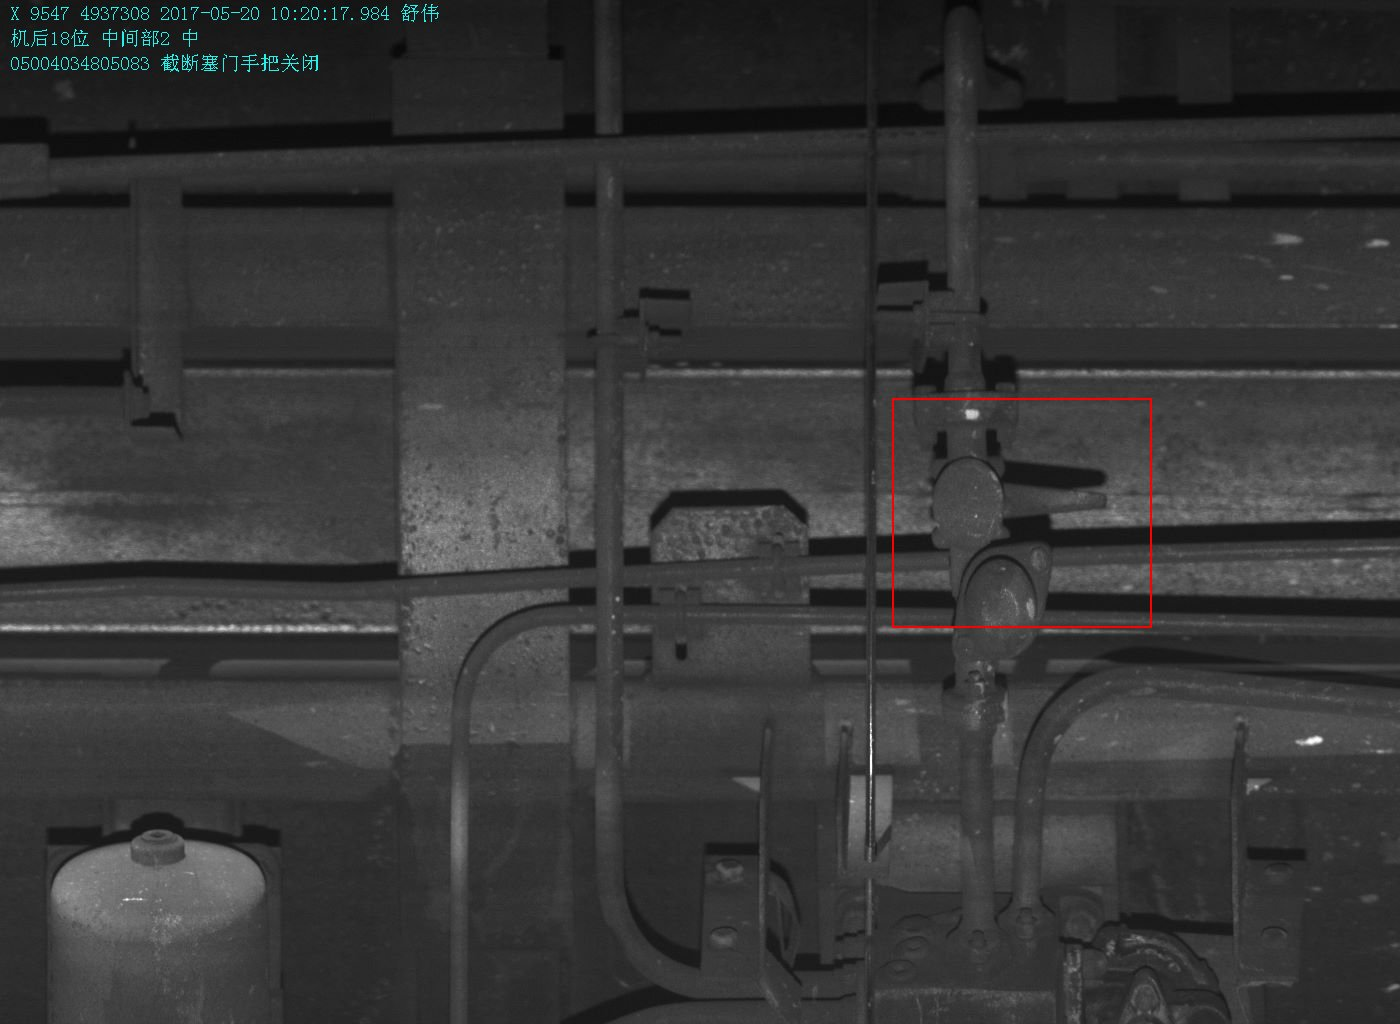truncated plug door handle: (912, 455, 1115, 553)
